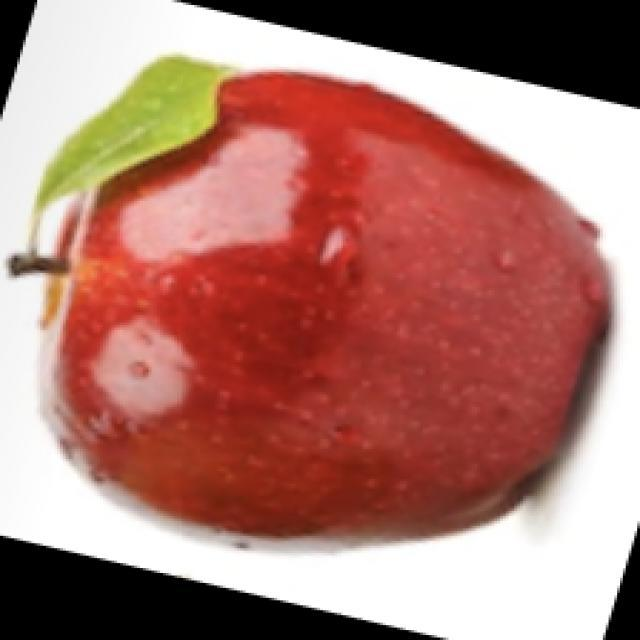Fresh Apple: (74, 79, 614, 558)
